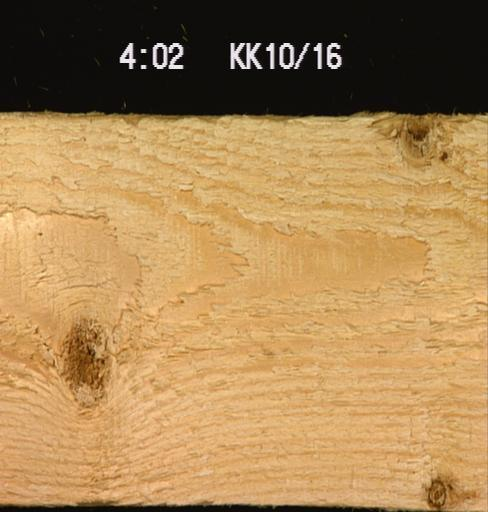edge_knot: (368, 111, 471, 168), (424, 475, 448, 511)
